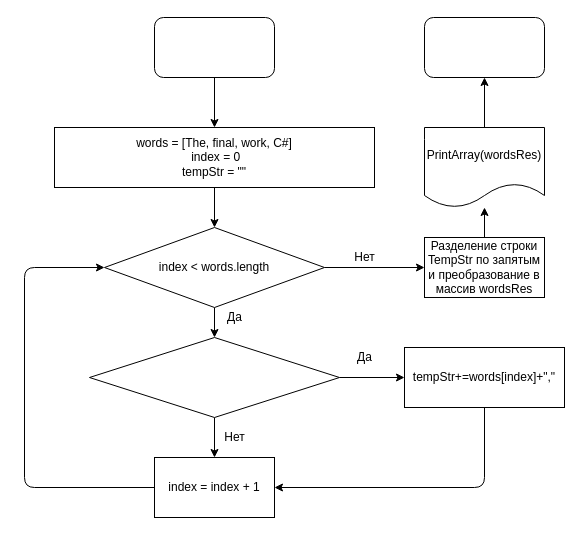
This 582x535 diagram has some shape labels left out. Here are the shapes that lost their labels. From the top down, the centre of each, then its label:
At (214,47): "Начало".
At (484,47): "Конец".
At (214,377): "words[index].length <= 3".
